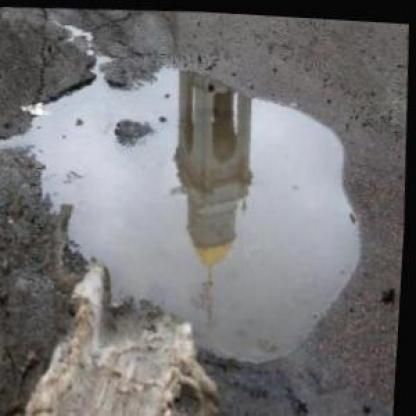pothole: (0, 40, 377, 374)
